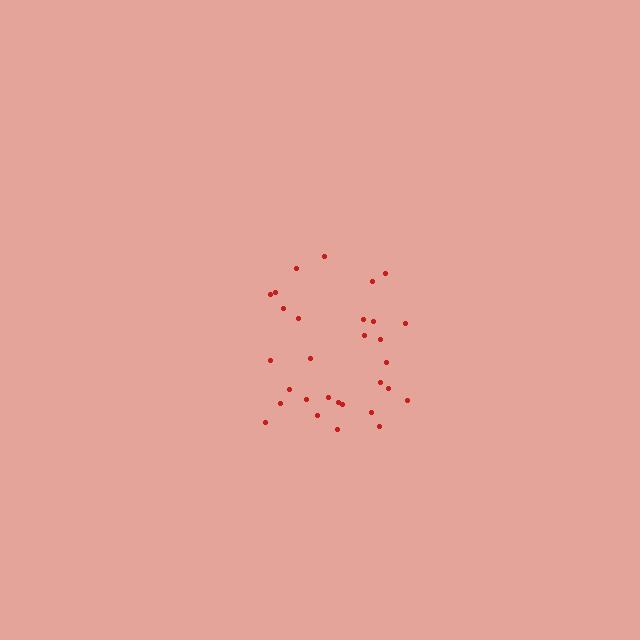abrasion: (260, 250, 424, 432)
